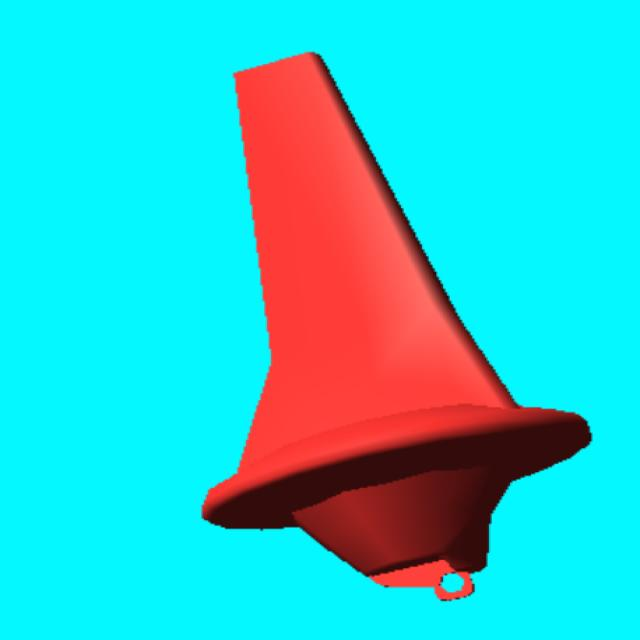RedBuoy: (203, 52, 590, 600)
